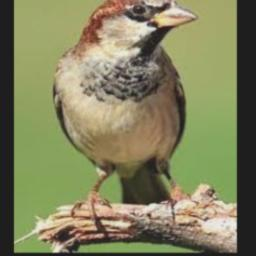Sparrow: (53, 0, 199, 225)
